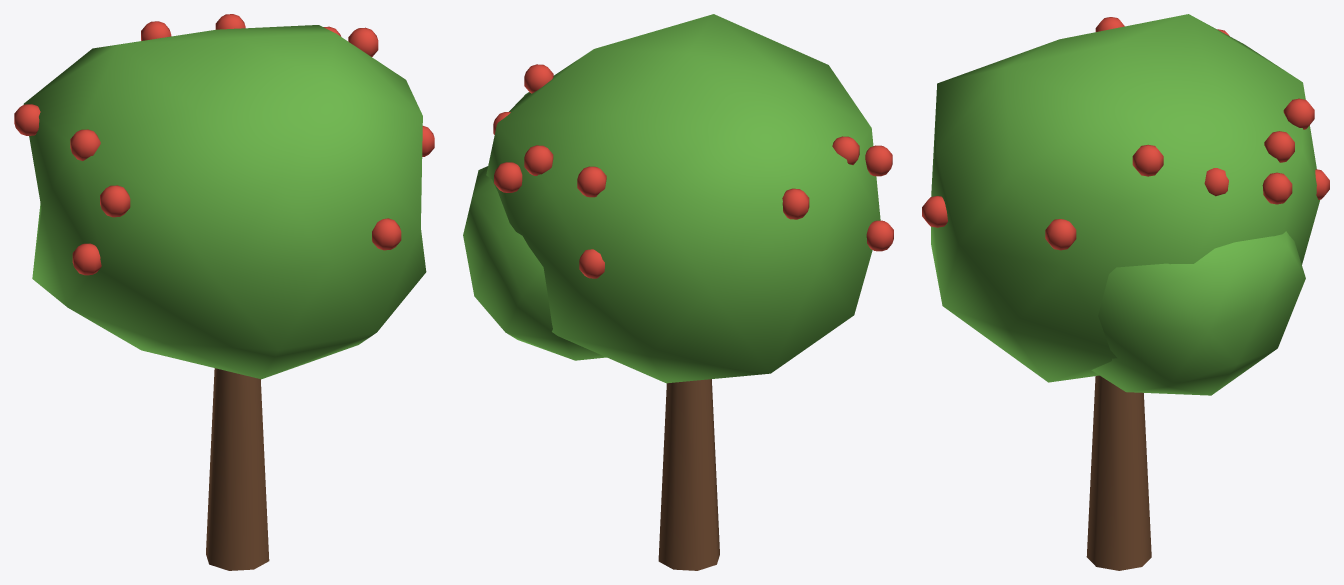
The model's file is prop_fruit_tree_2.glb.
The picture shows the model from 3 angles, left to right: view 1: azimuth 30°, elevation 25°; view 2: azimuth 150°, elevation 25°; view 3: azimuth 270°, elevation 25°; orthographic projection. The views are drawn at different scales.
Visible parts, largest first — view 1: Prop_Fruit_Tree; view 2: Prop_Fruit_Tree; view 3: Prop_Fruit_Tree.
Part boxes in pixels (x1,y1,x2,y2): Prop_Fruit_Tree: (14, 14, 434, 570); Prop_Fruit_Tree: (463, 14, 893, 570); Prop_Fruit_Tree: (922, 14, 1329, 570).
Size of the model in its own units: 2.67 by 3.49 by 2.51.
